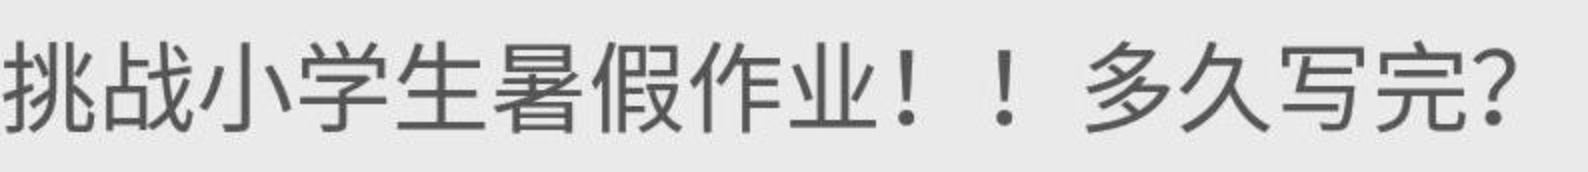TextView: (1, 1, 1587, 171)
